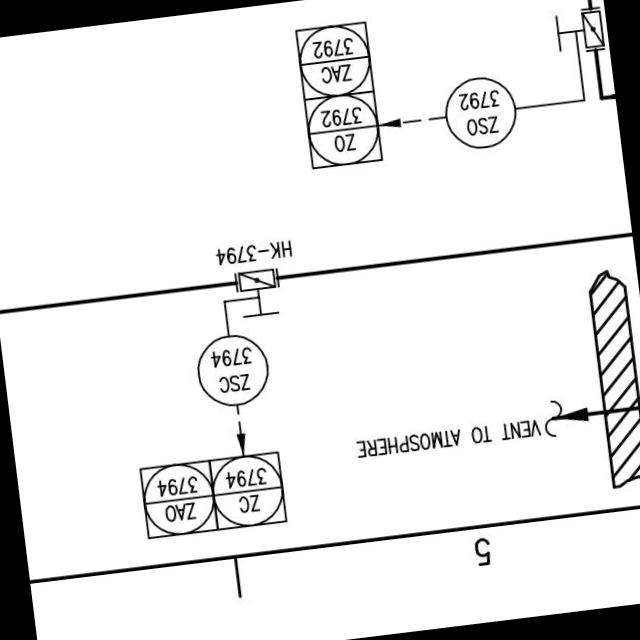BV: (546, 2, 610, 62), (228, 264, 286, 324)
